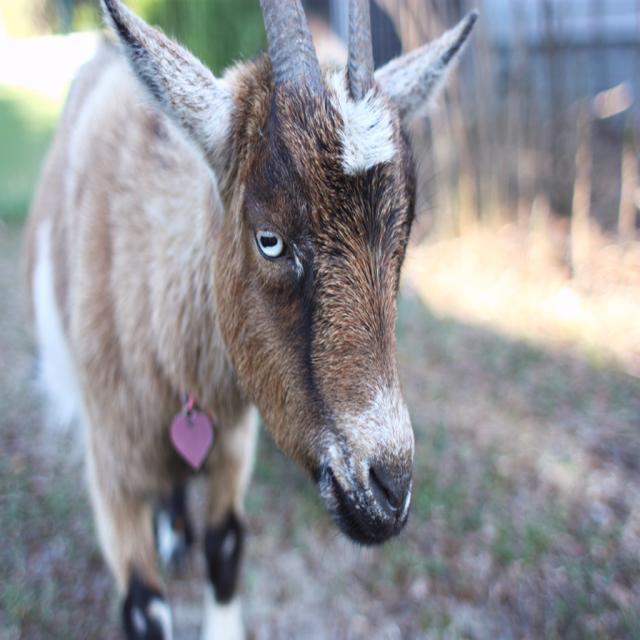Goat: (13, 0, 481, 640)
